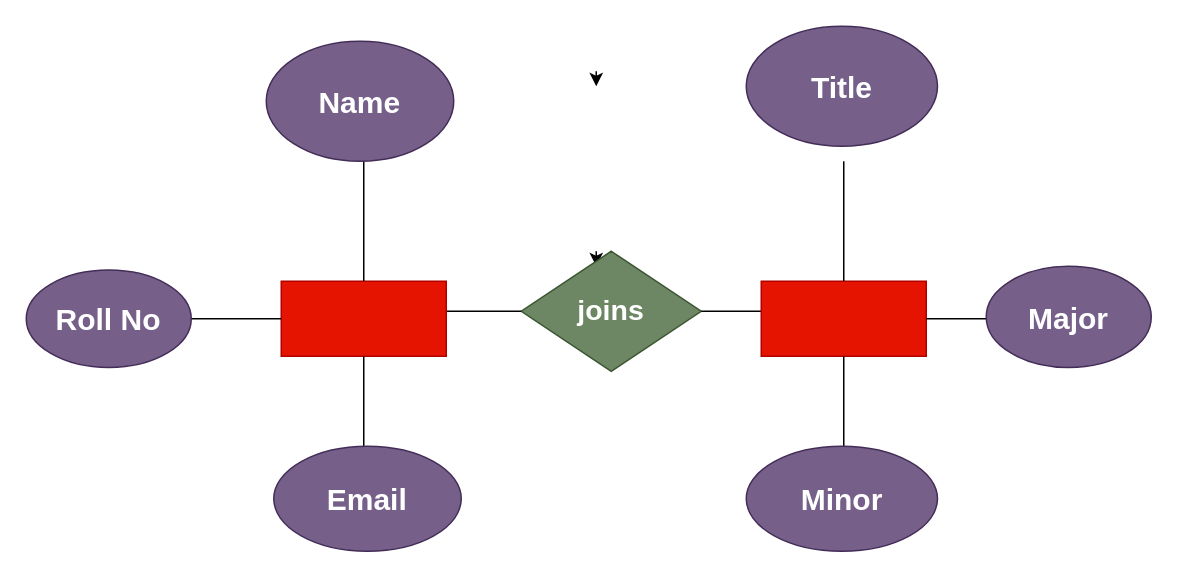
Some shapes in this 1178 by 578 pixel diagram are drawn without their labels. The centre of each missing label's shape, as x and y in pixels:
Course: the point at 843,318
Student: the point at 363,318
